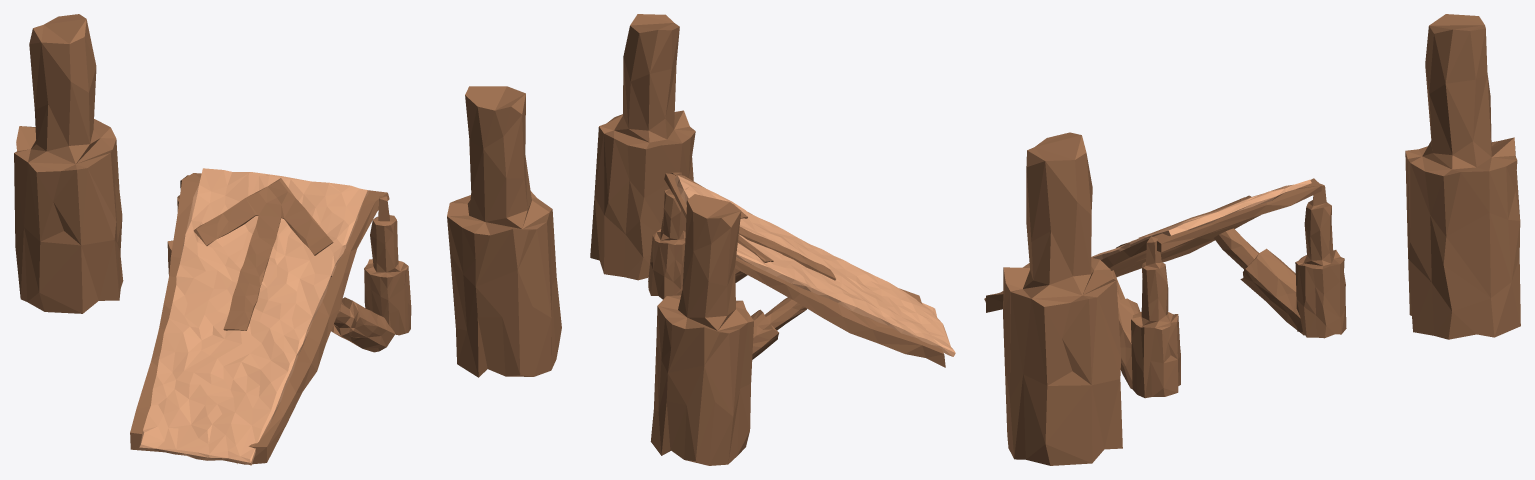
Rendered from FirstRamp.fbx.
3 views of the same model, side by side, from view 1: azimuth 30°, elevation 25°; view 2: azimuth 150°, elevation 25°; view 3: azimuth 270°, elevation 25° (orthographic). The views are drawn at different scales.
Parts seen in each view (by area): view 1: Cube.031, Cube.014, Cube.015, Cube.025, Cube.039, Cube.024, Cube.027; view 2: Cube.014, Cube.015, Cube.031, Cube.025, Cube.024, Cube.026, Cube.039; view 3: Cube.015, Cube.014, Cube.024, Cube.023, Cube.025, Cube.026, Cube.031, Cube.027.
Part boxes in pixels (bbox=[...]): Cube.031: bbox=[139, 168, 368, 465]; Cube.014: bbox=[14, 14, 123, 313]; Cube.015: bbox=[447, 86, 561, 377]; Cube.025: bbox=[130, 173, 389, 464]; Cube.039: bbox=[193, 178, 333, 330]; Cube.024: bbox=[364, 196, 411, 335]; Cube.027: bbox=[331, 297, 395, 352]; Cube.014: bbox=[650, 194, 753, 465]; Cube.015: bbox=[590, 14, 695, 280]; Cube.031: bbox=[675, 175, 955, 356]; Cube.025: bbox=[664, 173, 945, 367]; Cube.024: bbox=[648, 172, 685, 299]; Cube.026: bbox=[751, 297, 806, 359]; Cube.039: bbox=[733, 204, 835, 280]; Cube.015: bbox=[1003, 132, 1122, 465]; Cube.014: bbox=[1405, 14, 1520, 339]; Cube.024: bbox=[1131, 236, 1180, 398]; Cube.023: bbox=[1295, 183, 1346, 338]; Cube.025: bbox=[986, 178, 1321, 312]; Cube.026: bbox=[1214, 228, 1304, 335]; Cube.031: bbox=[984, 179, 1311, 302]; Cube.027: bbox=[1111, 270, 1140, 389].
Bounding box in the file's own units: 3197 × 2176 × 3367.
